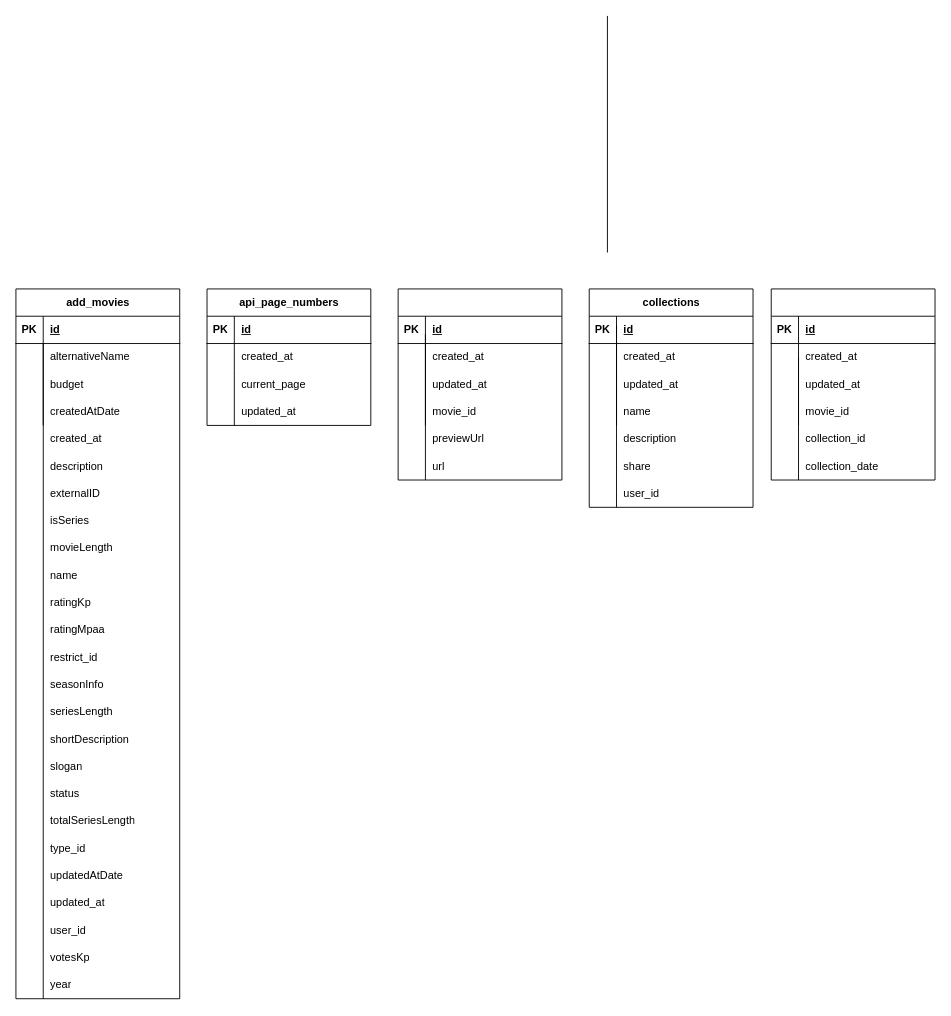
Some shapes in this 951 by 1016 pixel diagram are drawn without their labels. Here are the shapes that lost their labels. From the top down, the box of each, then its label:
(397, 288, 562, 480): backdrops
(770, 288, 935, 480): collection_movies
